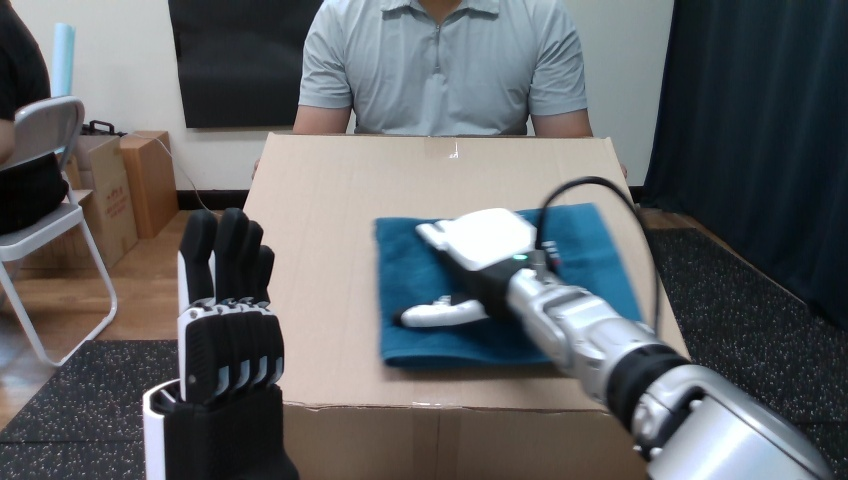left robot hand: (643, 209, 847, 478), (143, 208, 297, 478)
